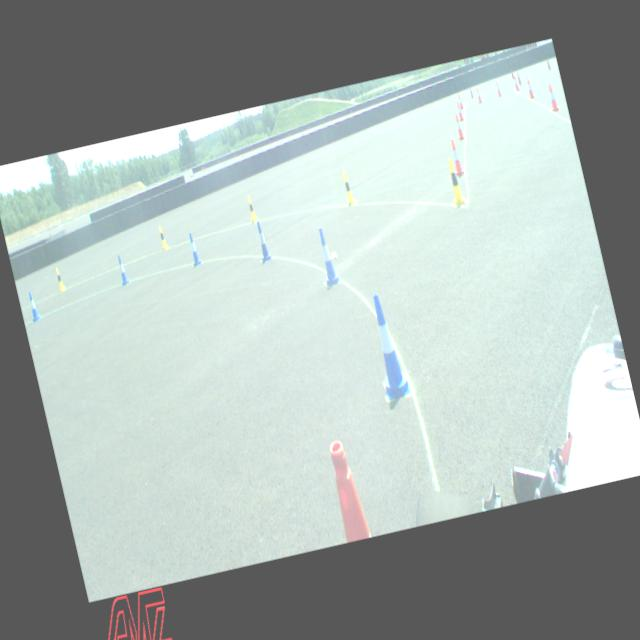blue_cone: (363, 289, 412, 400), (314, 226, 339, 286), (253, 220, 272, 262), (186, 232, 202, 266), (115, 253, 130, 285), (26, 289, 41, 321)
large_orange_cone: (323, 436, 372, 540)
orange_cone: (448, 138, 464, 176), (546, 84, 560, 112), (454, 114, 464, 140), (524, 78, 534, 99), (456, 100, 464, 120), (494, 80, 502, 96), (475, 86, 482, 102), (512, 74, 519, 90), (458, 94, 463, 110)
yellow_cone: (444, 157, 466, 205), (340, 170, 356, 204), (245, 194, 258, 222), (54, 266, 65, 291), (158, 225, 168, 249)
